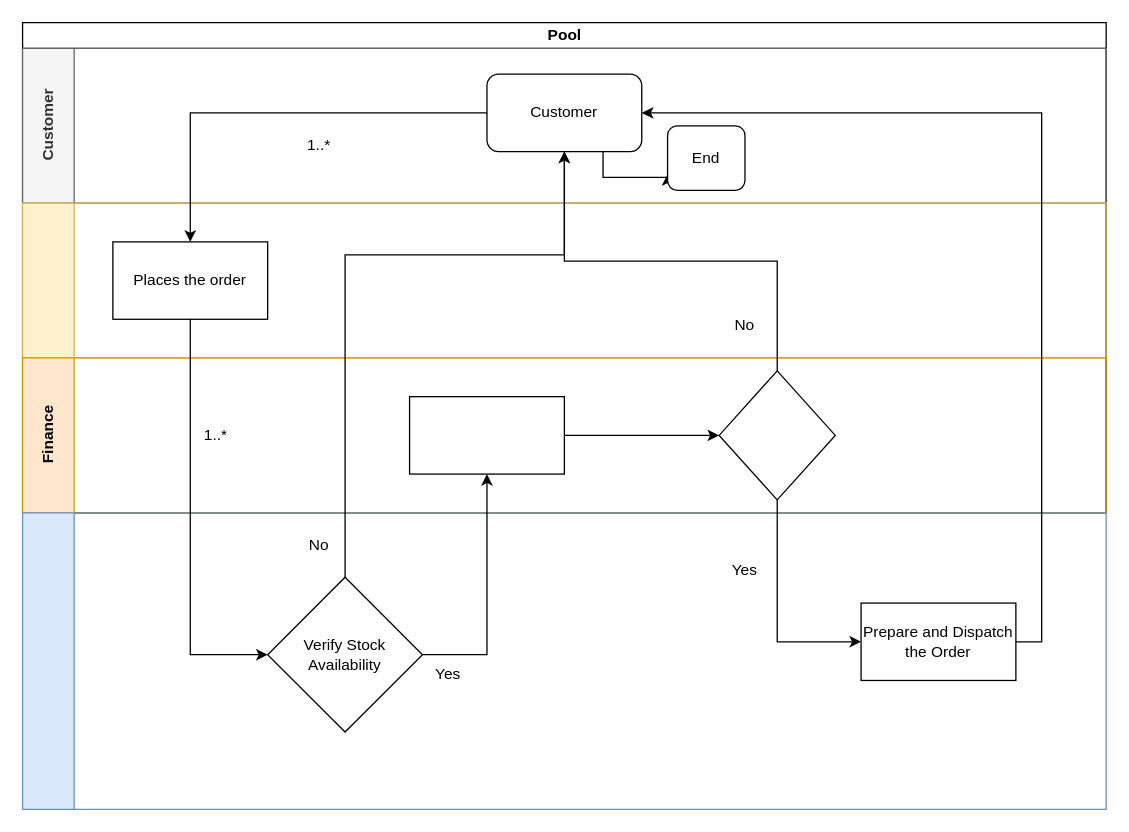
The diagram is 1129 pixels wide and 832 high, and some of its shapes have lost their labels. The box of each missing label's shape, as (x1, y1, x2, y2) in pixels:
Logistics: (21, 511, 1106, 809)
Payment Success / Failure: (718, 370, 835, 500)
Proceed to Payment: (408, 395, 564, 474)
Sales Team: (21, 202, 1106, 358)
